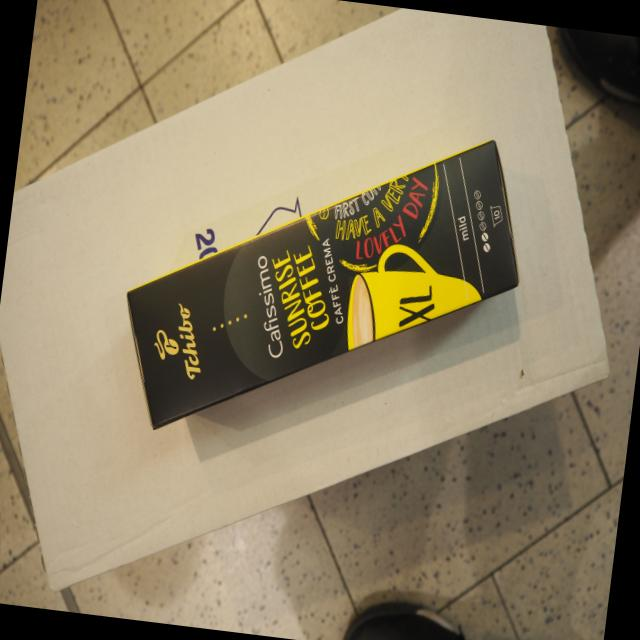Simo Sunrise: (125, 136, 520, 433)
